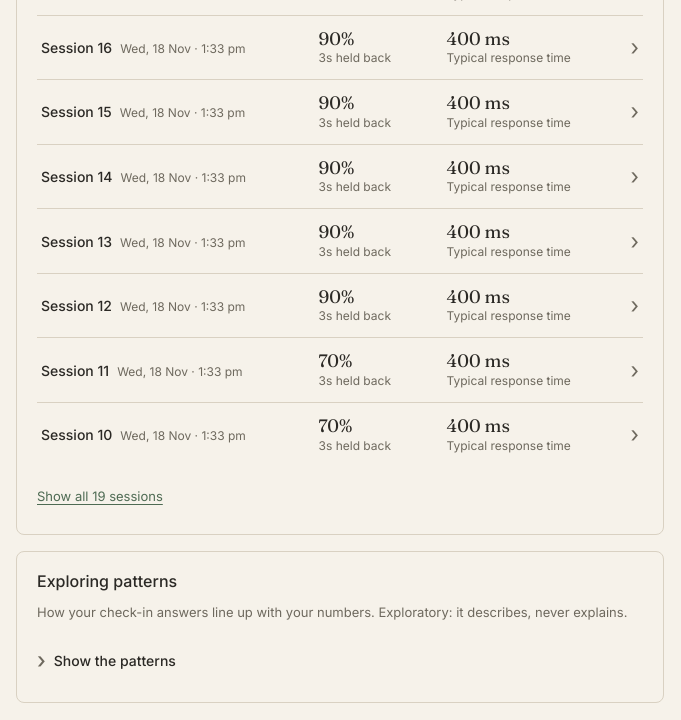
Test: Progress screen › collapses a part to how many more sessions it needs
(page scrolled)
What coordinates should you click on to do the following:
click the heading "Show the patterns"
I would click on:
 (115, 660)
Its box is [54,652,176,668].
(page scrolled)
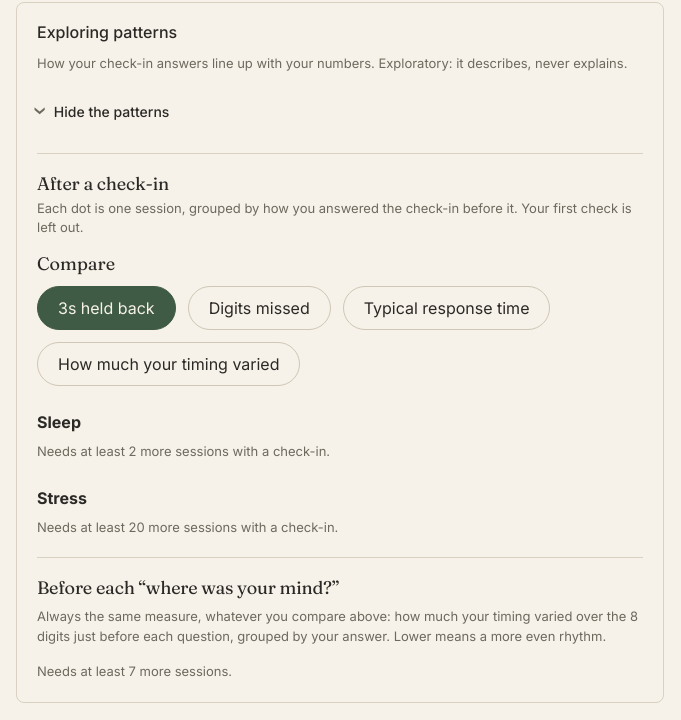
Now the element "Sleep" shows "Needs at least 2 more sessions with a check-in.", box [37,443,330,459]
Now the element "Stress" shows "Needs at least 20 more sessions with a check-in.", box [37,519,338,535]
Now the element "Before each “where was your mind?”" shows "Needs at least 7 more sessions.", box [37,663,232,679]
